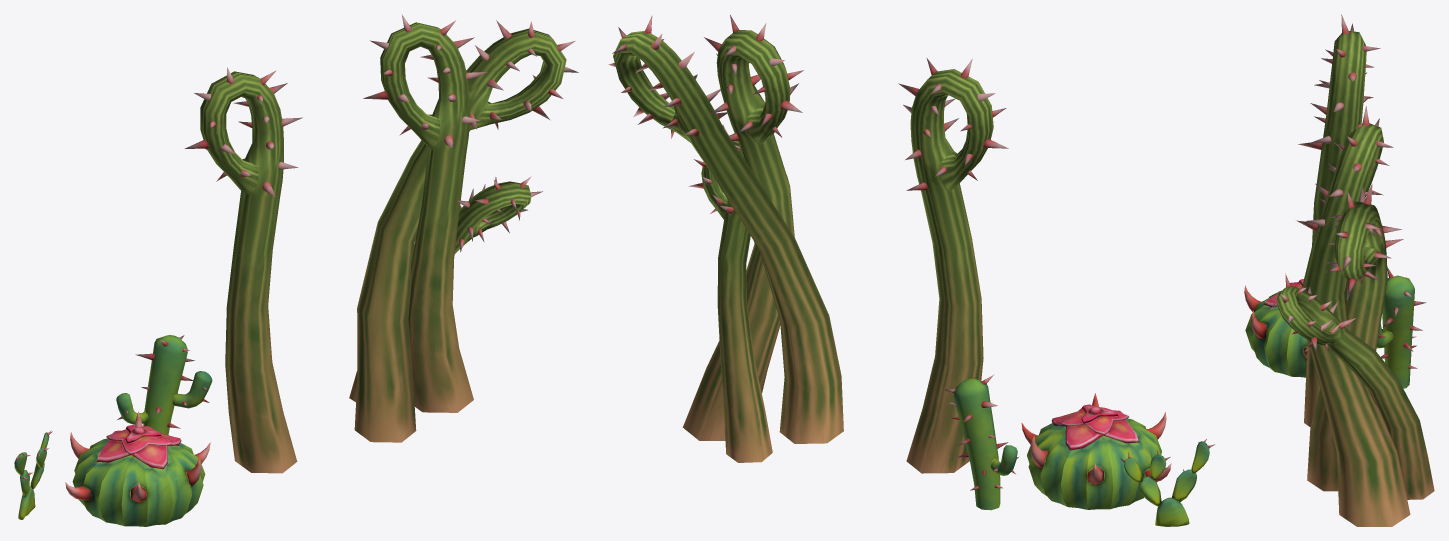
Rendered from Cactus.fbx.
3 renders of one model, left to right at view 1: azimuth 30°, elevation 25°; view 2: azimuth 150°, elevation 25°; view 3: azimuth 270°, elevation 25°, orthographic. The views are drawn at different scales.
Visible parts, largest first — view 1: group1polySurface4, Cactus:group1polySurface1, Cactus:defaultMaterial.001, polySurface2, polySurface5; view 2: group1polySurface4, Cactus:group1polySurface1, Cactus:defaultMaterial.001, polySurface2, polySurface5; view 3: group1polySurface4, Cactus:group1polySurface1, Cactus:defaultMaterial.001, polySurface2.
Part boxes in pixels (bbox=[...]): group1polySurface4: bbox=[349, 14, 578, 442]; Cactus:group1polySurface1: bbox=[184, 67, 302, 473]; Cactus:defaultMaterial.001: bbox=[65, 411, 210, 526]; polySurface2: bbox=[116, 335, 212, 435]; polySurface5: bbox=[14, 430, 52, 519]; group1polySurface4: bbox=[608, 15, 843, 462]; Cactus:group1polySurface1: bbox=[898, 58, 1008, 473]; Cactus:defaultMaterial.001: bbox=[1021, 393, 1171, 509]; polySurface2: bbox=[942, 374, 1018, 510]; polySurface5: bbox=[1120, 439, 1215, 526]; group1polySurface4: bbox=[1269, 106, 1434, 526]; Cactus:group1polySurface1: bbox=[1298, 14, 1380, 427]; Cactus:defaultMaterial.001: bbox=[1244, 279, 1307, 377]; polySurface2: bbox=[1376, 267, 1426, 388].
Size of the model in its own units: 827 by 552 by 242.
